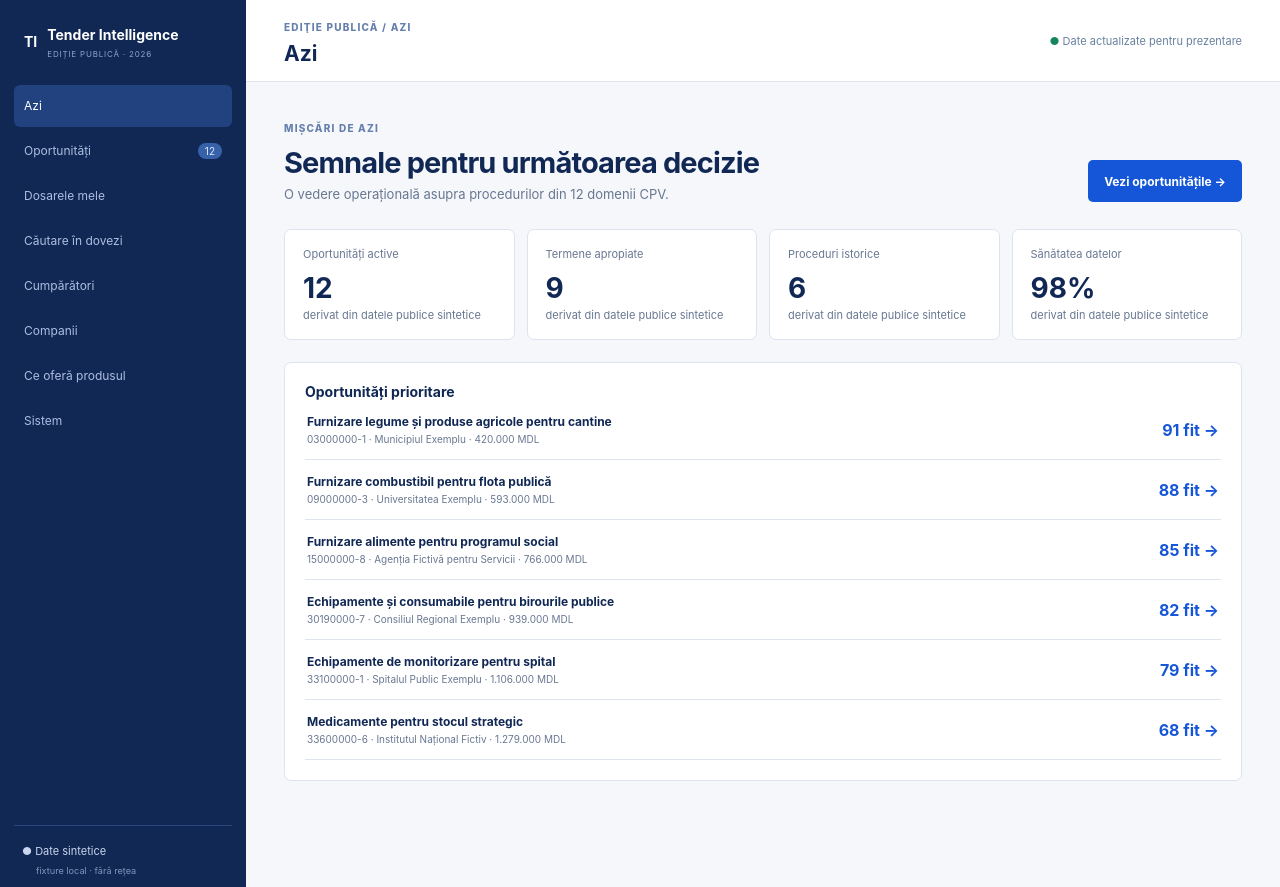
Scenario: derives twelve active procedures and opens agriculture dossier
Click the button "Oportunități 12" at (123, 151), box left=14, top=130, right=232, bottom=172
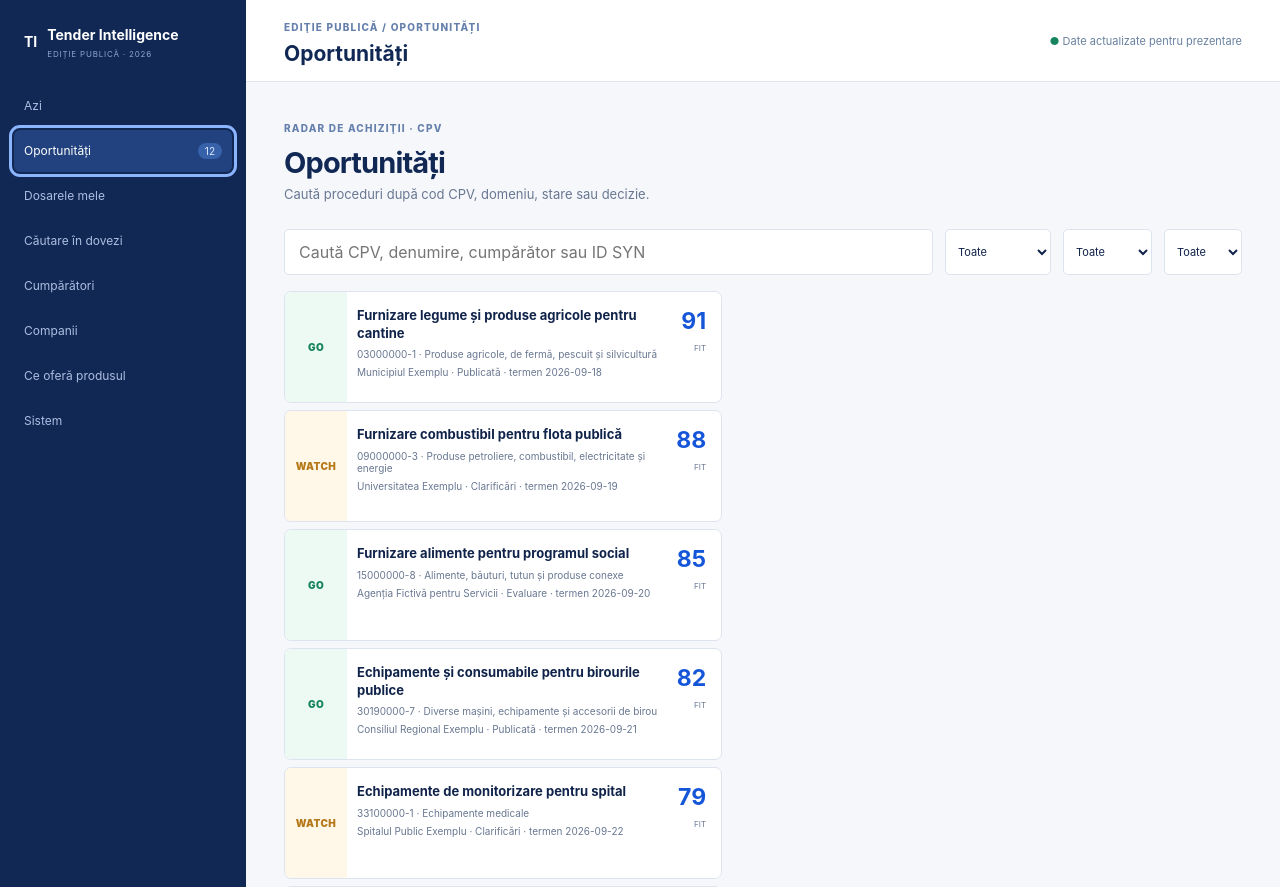
Click the button "Furnizare legume" at (503, 347), box left=284, top=291, right=722, bottom=403
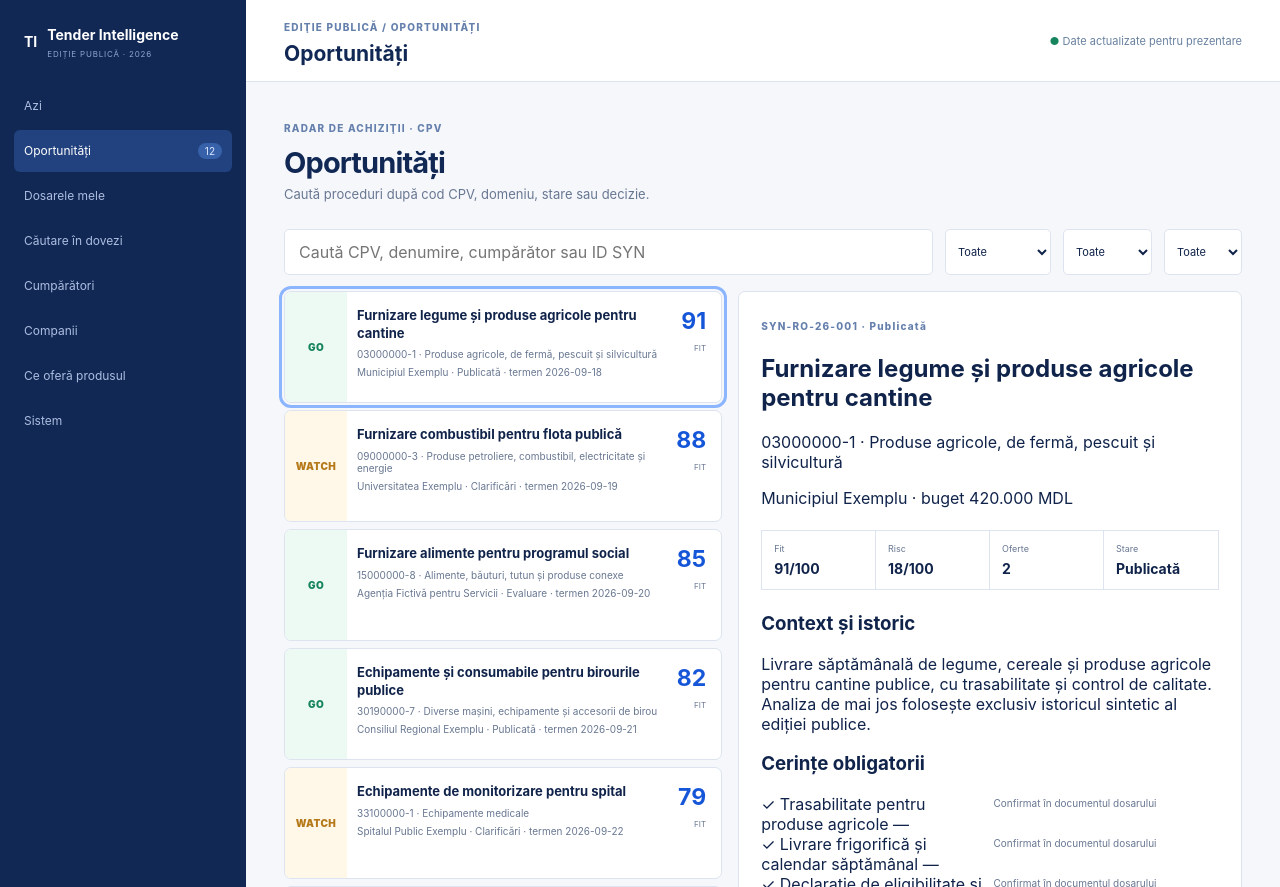
Check: the heading "Furnizare legume şi produse agricole pentru cantine" is shown, box left=761, top=354, right=1219, bottom=412
